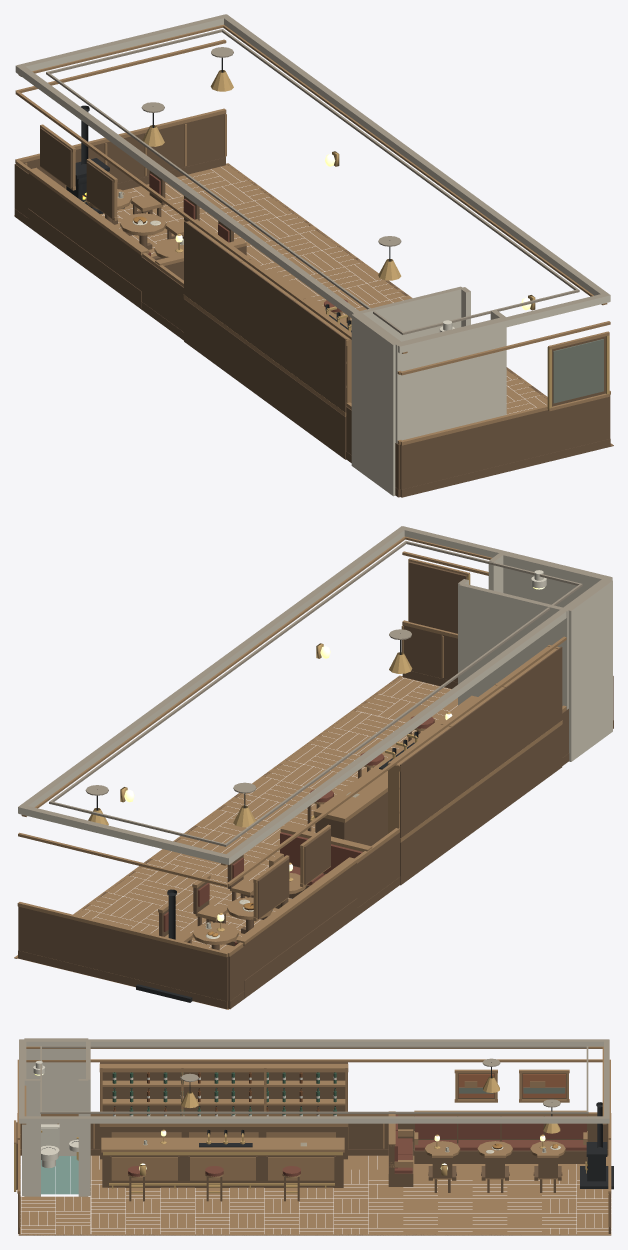
The model's file is pub-hospitality.glb.
3 views of the same model, one above another, from view 1: azimuth 30°, elevation 25°; view 2: azimuth 150°, elevation 25°; view 3: azimuth 270°, elevation 25° (orthographic). The views are drawn at different scales.
Visible parts, largest first — view 1: pub_warm_interior; view 2: pub_warm_interior; view 3: pub_warm_interior.
Boxes of the visible parts, x1,y1,x2,y2 form: pub_warm_interior: (14, 14, 613, 497); pub_warm_interior: (14, 526, 613, 1009); pub_warm_interior: (14, 1038, 613, 1235).
Bounding box in the file's own units: 5.12 × 3.4 × 15.92.
